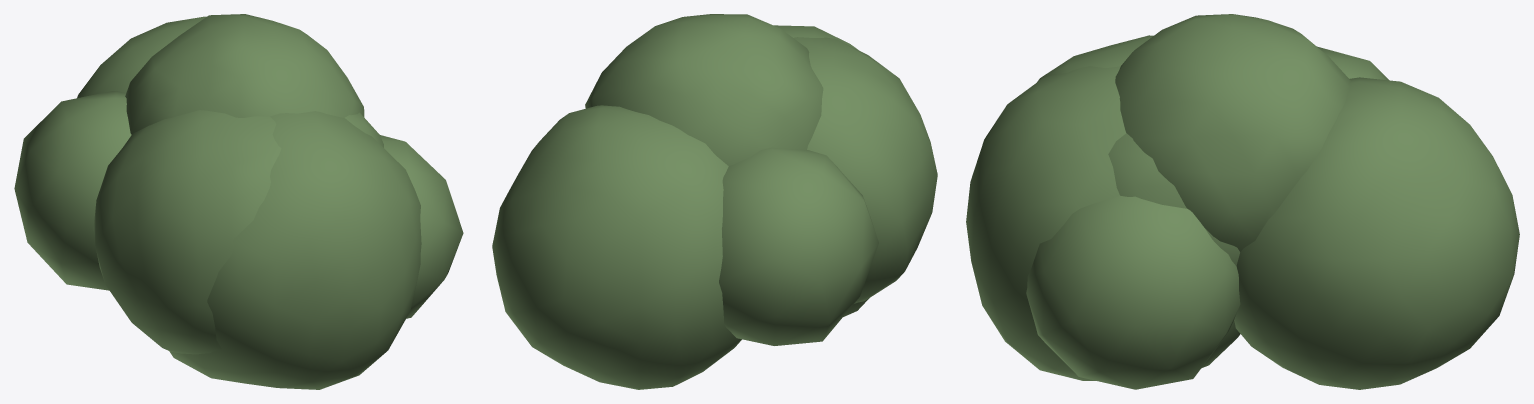
File: NPR_07_1003__MOD__VegetationElements__Shrubs__GardenShrub__Var-03__.glb
The picture shows the model from 3 angles, left to right: view 1: azimuth 30°, elevation 25°; view 2: azimuth 150°, elevation 25°; view 3: azimuth 270°, elevation 25°; orthographic projection. The views are drawn at different scales.
Visible parts, largest first — view 1: NPR_07_1003__MOD__VegetationElements__Shrubs__GardenShrub__V; view 2: NPR_07_1003__MOD__VegetationElements__Shrubs__GardenShrub__V; view 3: NPR_07_1003__MOD__VegetationElements__Shrubs__GardenShrub__V.
Boxes of the visible parts, x1=… form: NPR_07_1003__MOD__VegetationElements__Shrubs__GardenShrub__V: x1=14, y1=14, x2=463, y2=389; NPR_07_1003__MOD__VegetationElements__Shrubs__GardenShrub__V: x1=492, y1=14, x2=937, y2=389; NPR_07_1003__MOD__VegetationElements__Shrubs__GardenShrub__V: x1=966, y1=14, x2=1519, y2=389.
Size of the model in its own units: 1.13 by 0.9821 by 1.43.
